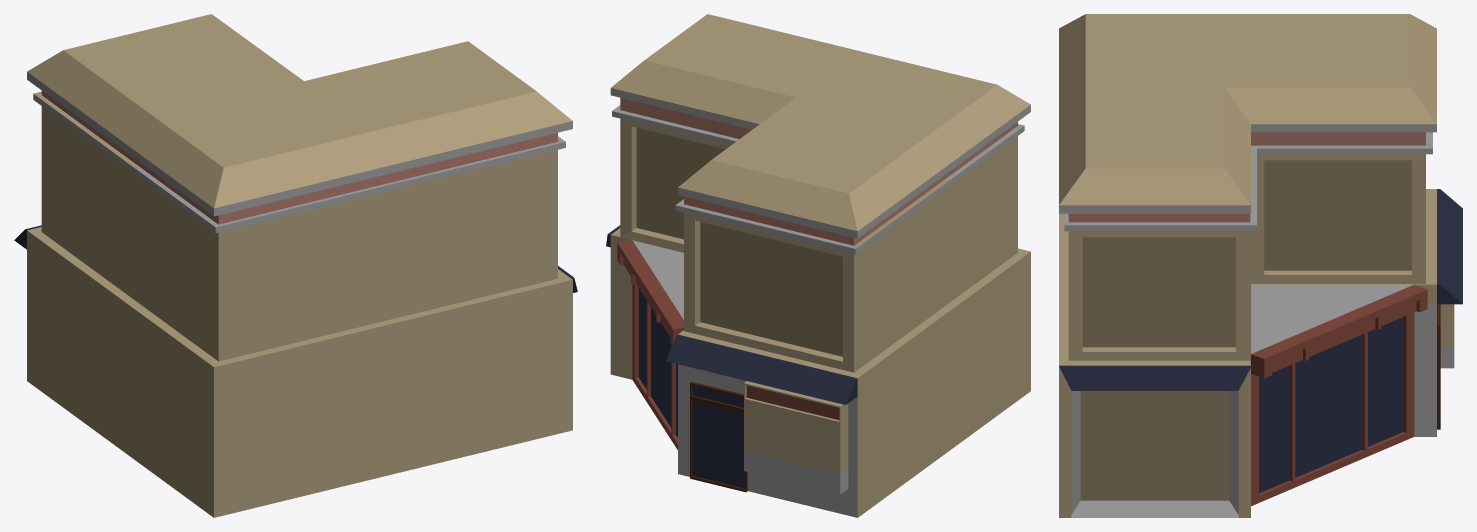
Rendered from Building_C.fbx.
3 renders of one model, left to right at view 1: azimuth 30°, elevation 25°; view 2: azimuth 150°, elevation 25°; view 3: azimuth 270°, elevation 25°, orthographic. The views are drawn at different scales.
Visible parts, largest first — view 1: Corner Shop; view 2: Corner Shop, Plane.005; view 3: Corner Shop, Plane.005.
Part boxes in pixels (x1,y1,x2,y2): Corner Shop: (14,14,577,517); Corner Shop: (606,14,1030,517); Plane.005: (690,381,747,492); Corner Shop: (1059,14,1462,517); Plane.005: (1437,304,1440,429).
Bounding box in the file's own units: 899 × 778 × 842.
